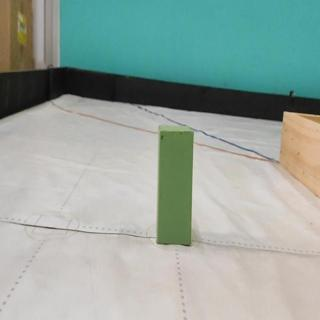greenbox: (157, 125, 192, 245)
